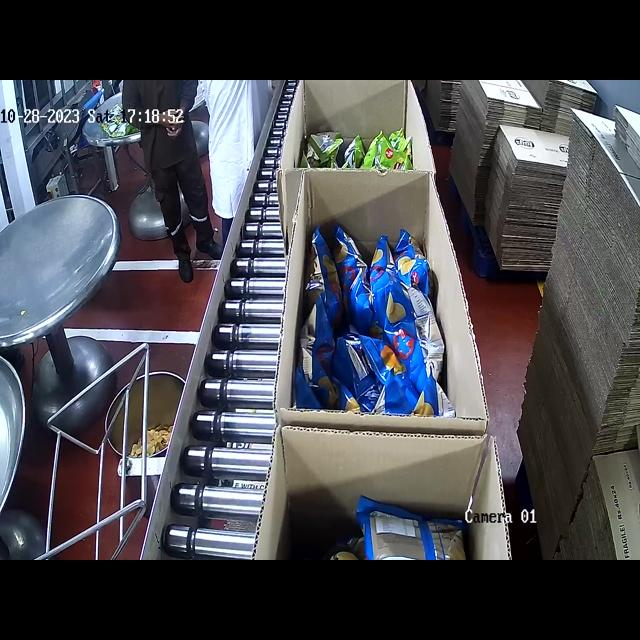paprika: (305, 221, 452, 422), (308, 487, 491, 560)
yogurt: (308, 92, 409, 186)
